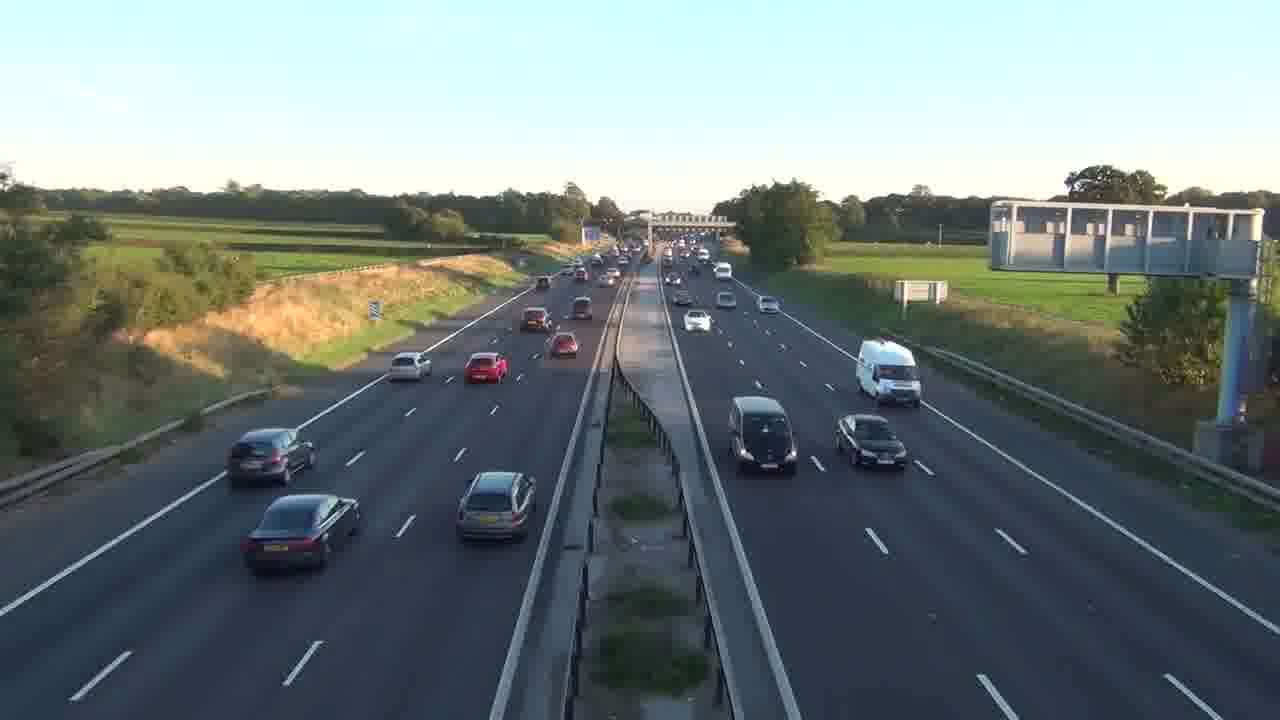car: (240, 492, 361, 575), (456, 469, 537, 543), (226, 427, 320, 487), (833, 412, 909, 470), (463, 351, 510, 384), (388, 351, 433, 383), (550, 333, 580, 358), (684, 310, 712, 333)
truck: (855, 338, 922, 407)
